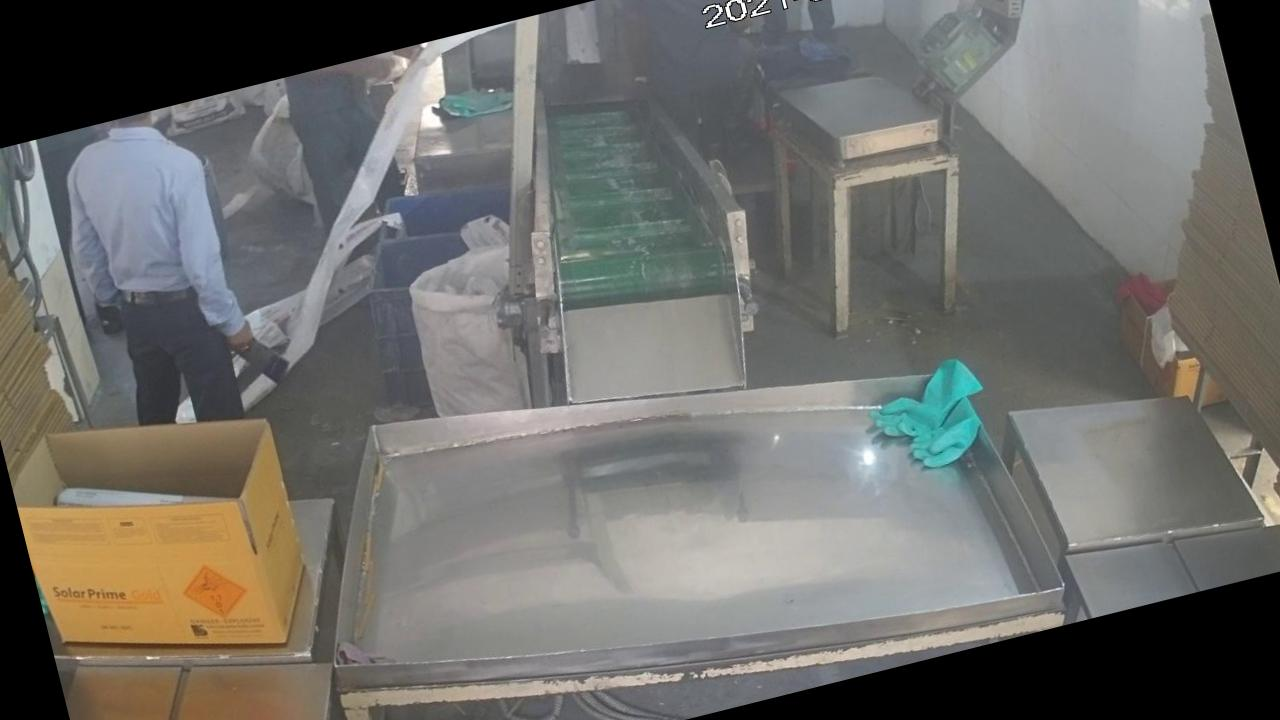Gloves: (841, 348, 1014, 496)
No-gloves: (154, 141, 270, 366)
